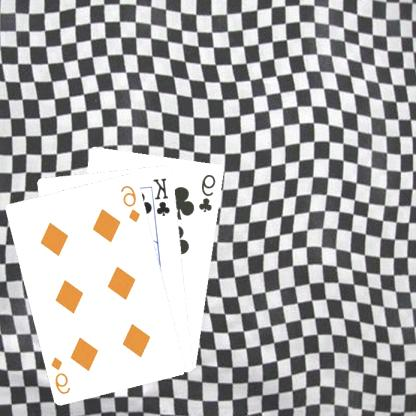6D: (50, 353, 74, 396), (120, 182, 144, 224)
9C: (198, 171, 219, 214)
KC: (149, 175, 173, 222)
